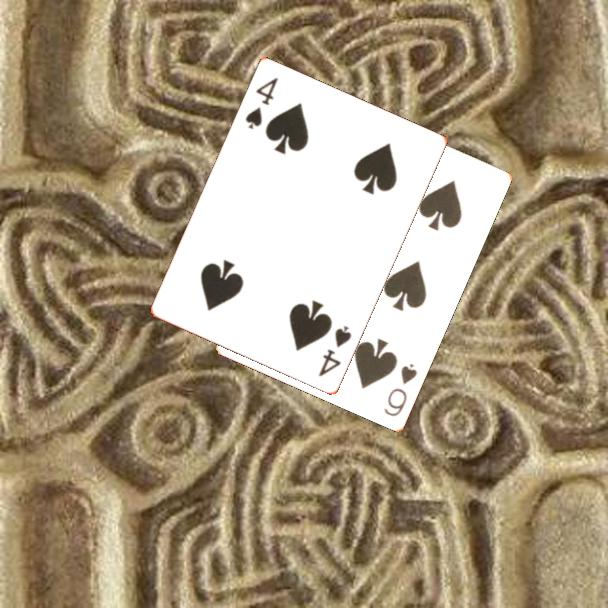s04: (315, 322, 355, 380), (242, 74, 281, 133)
s06: (380, 359, 420, 419)
